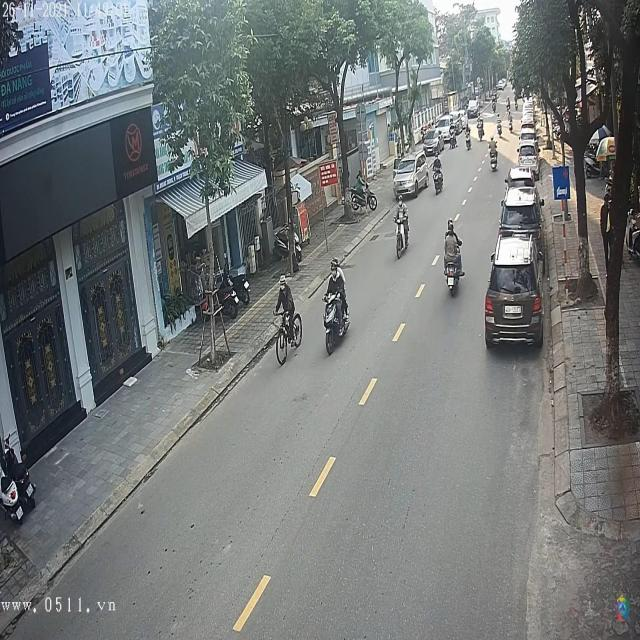car: (485, 238, 543, 348), (500, 190, 544, 238), (393, 158, 423, 199)
motorcycle: (324, 287, 350, 353), (444, 255, 463, 296), (393, 213, 408, 260), (432, 168, 444, 196), (489, 147, 500, 171)
